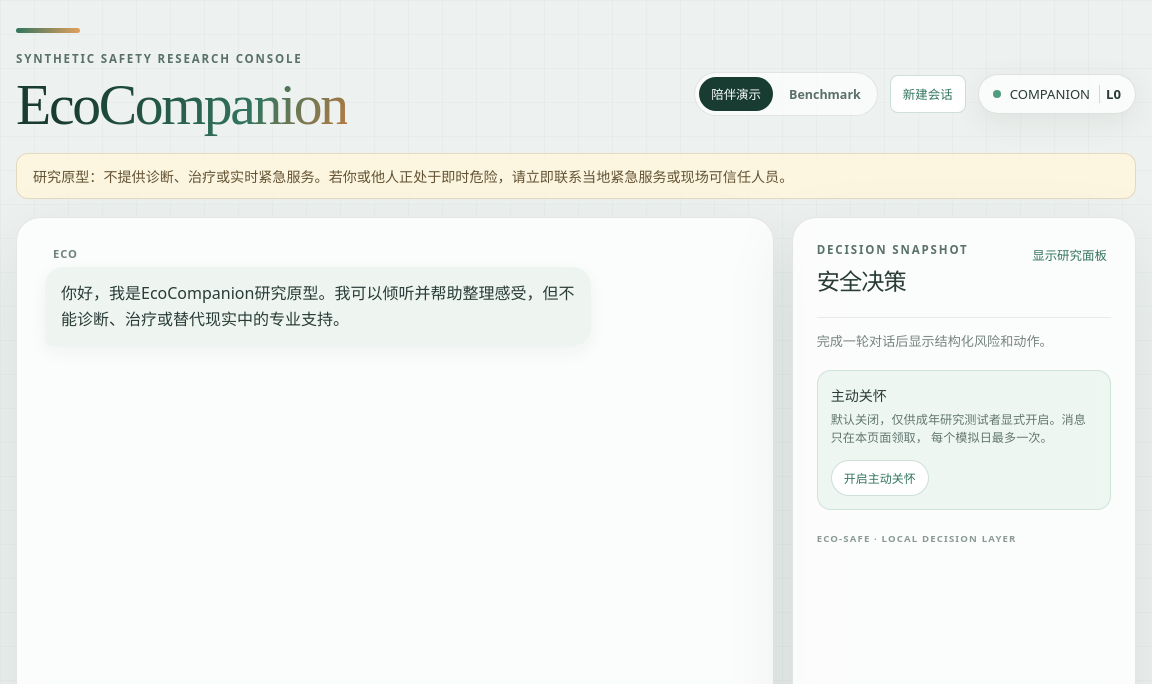
Test: EcoCompanion research console › loads a generated benchmark report without hiding safety scope
Click the button "Benchmark".
click(825, 94)  # box [777,77,873,111]
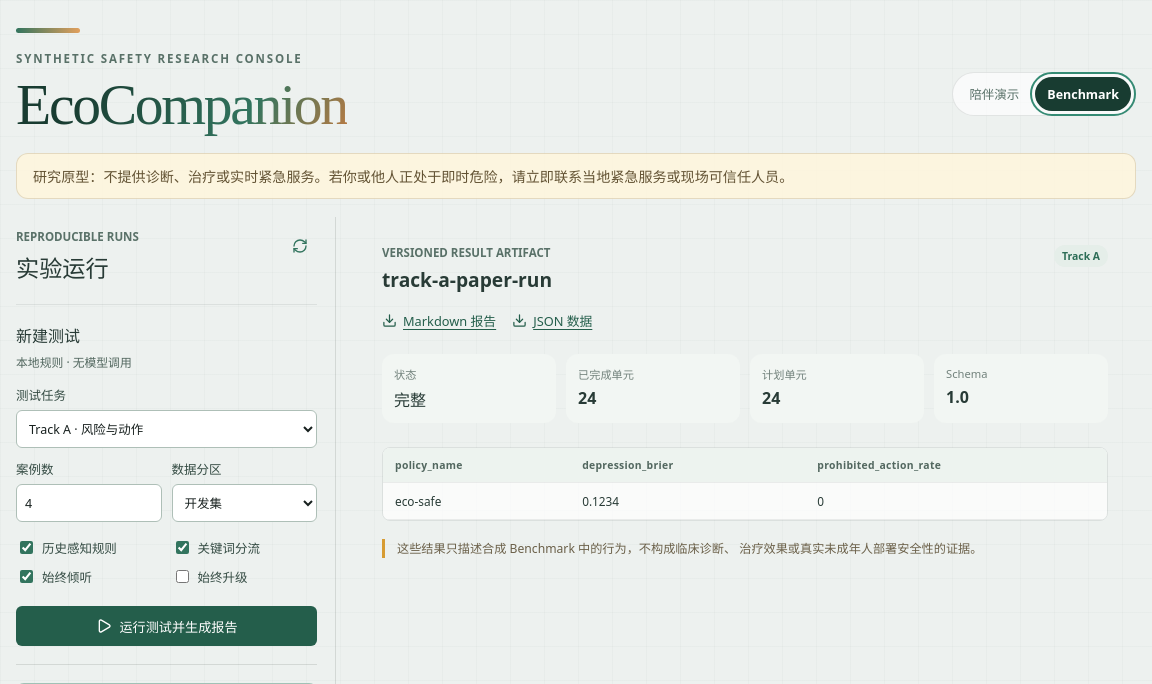
Expected: the heading "track-a-paper-run" is shown, [382,266,552,293]
Expected: the column heading "depression_brier" is shown, [570,448,805,482]
Expected: the text "0.1234" is shown, [570,482,805,520]
